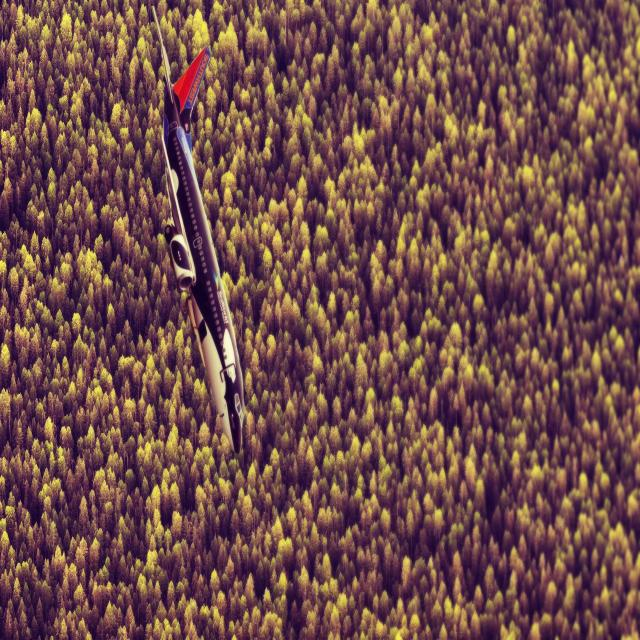airplane: (150, 3, 246, 454)
